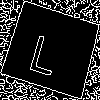L: (26, 24, 65, 77)
